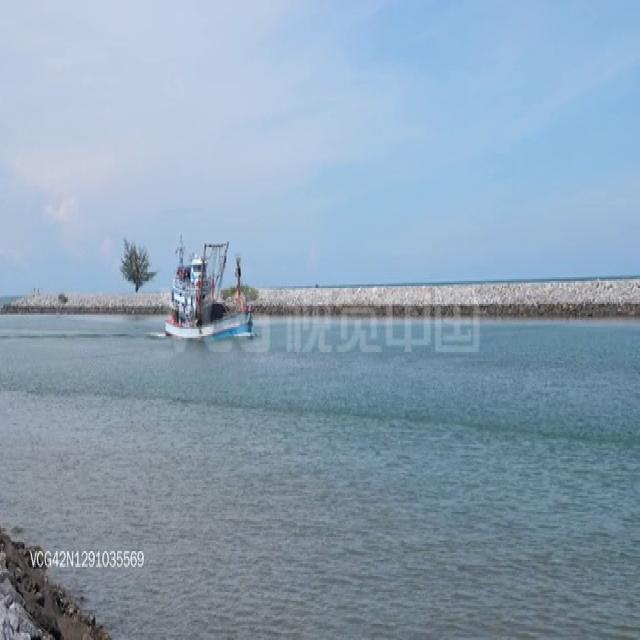fishing boat: (165, 230, 252, 339)
